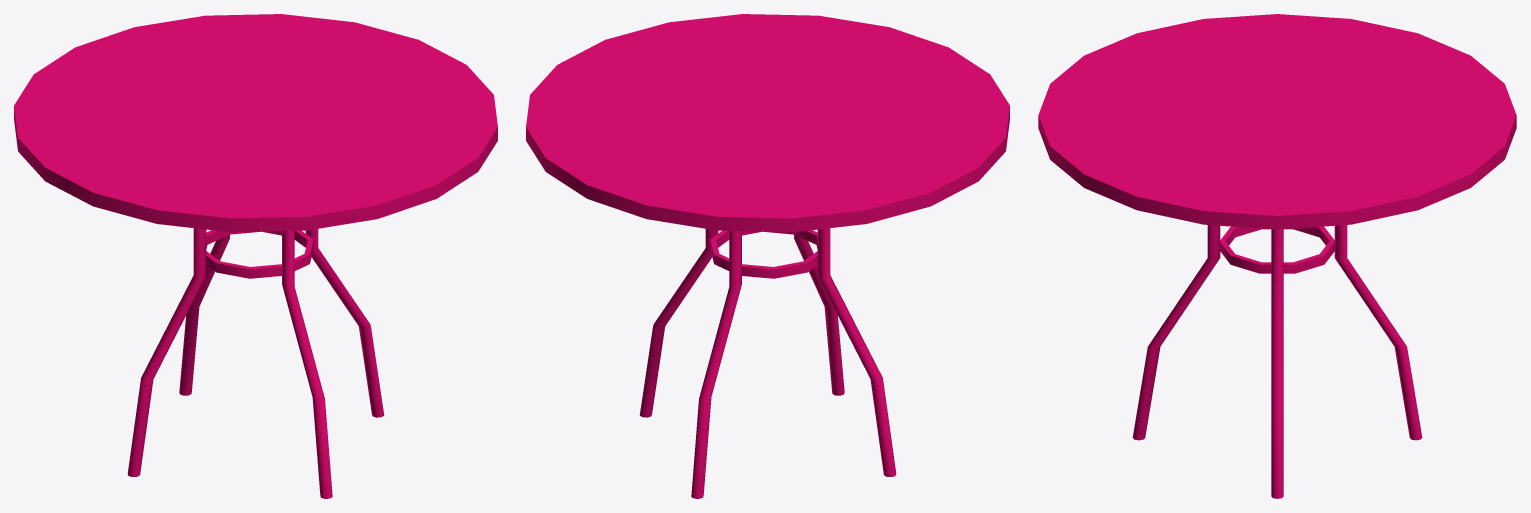
File: Table_02_Lod0.fbx
3 views of the same model, side by side, from view 1: azimuth 30°, elevation 25°; view 2: azimuth 150°, elevation 25°; view 3: azimuth 270°, elevation 25° (orthographic).
Visible parts, largest first — view 1: Table_02_Lod0; view 2: Table_02_Lod0; view 3: Table_02_Lod0.
Boxes of the visible parts, bbox=[...] form: Table_02_Lod0: bbox=[14, 14, 497, 498]; Table_02_Lod0: bbox=[526, 14, 1009, 498]; Table_02_Lod0: bbox=[1038, 14, 1516, 498].
Size of the model in its own units: 101 by 75.02 by 101.
